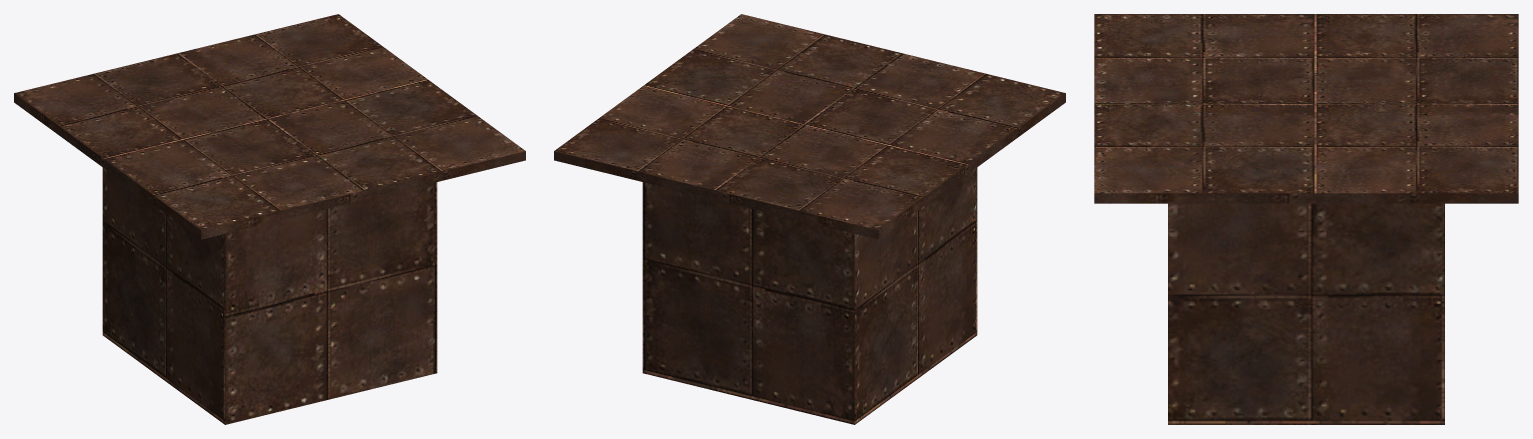
Rendered from table_square_sm.fbx.
The picture shows the model from 3 angles, left to right: view 1: azimuth 30°, elevation 25°; view 2: azimuth 150°, elevation 25°; view 3: azimuth 270°, elevation 25°; orthographic projection. The views are drawn at different scales.
Parts seen in each view (by area): view 1: mesh_0; view 2: mesh_0; view 3: mesh_0.
Part boxes in pixels (bbox=[...]): mesh_0: bbox=[14, 14, 525, 424]; mesh_0: bbox=[554, 14, 1065, 424]; mesh_0: bbox=[1094, 14, 1518, 424].
Bounding box in the file's own units: 73.16 × 50 × 73.16.
1 material, 1 textured.
